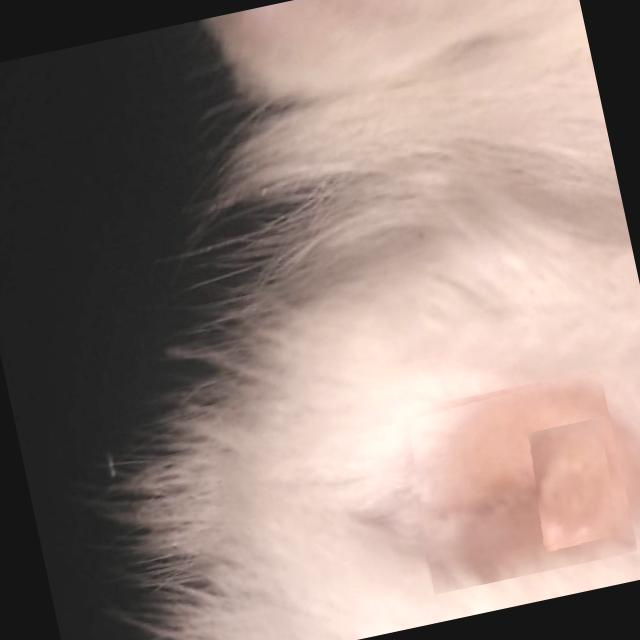mae: (404, 368, 637, 593)
mal: (526, 418, 615, 545)
